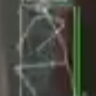hacks_1: (12, 1, 82, 96)
